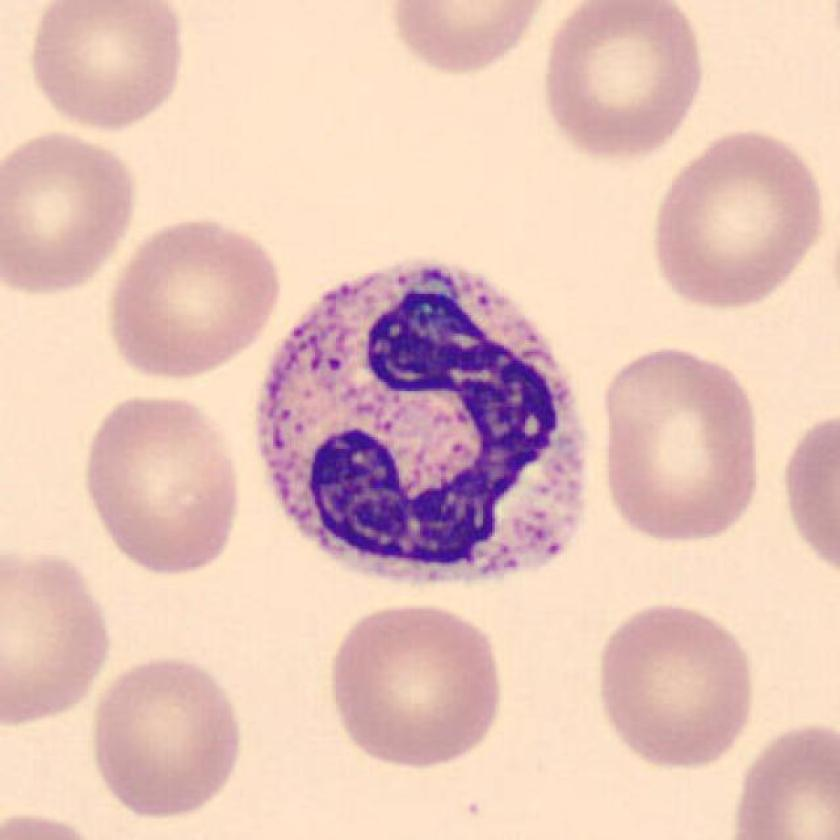neutrophil: (258, 258, 589, 584)
